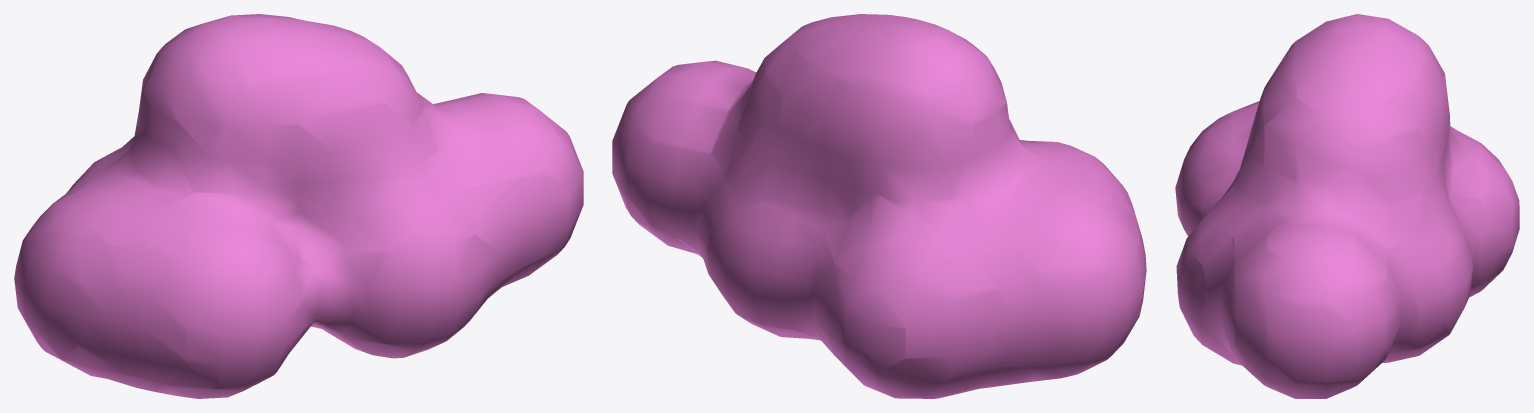
The model's file is Arbusto.fbx.
3 views of the same model, side by side, from view 1: azimuth 30°, elevation 25°; view 2: azimuth 150°, elevation 25°; view 3: azimuth 270°, elevation 25° (orthographic). The views are drawn at different scales.
Visible parts, largest first — view 1: Mball; view 2: Mball; view 3: Mball.
Boxes of the visible parts, x1,y1,x2,y2 form: Mball: (14, 14, 583, 398); Mball: (612, 14, 1146, 398); Mball: (1175, 14, 1519, 398).
Bounding box in the file's own units: 722 × 419 × 444.
